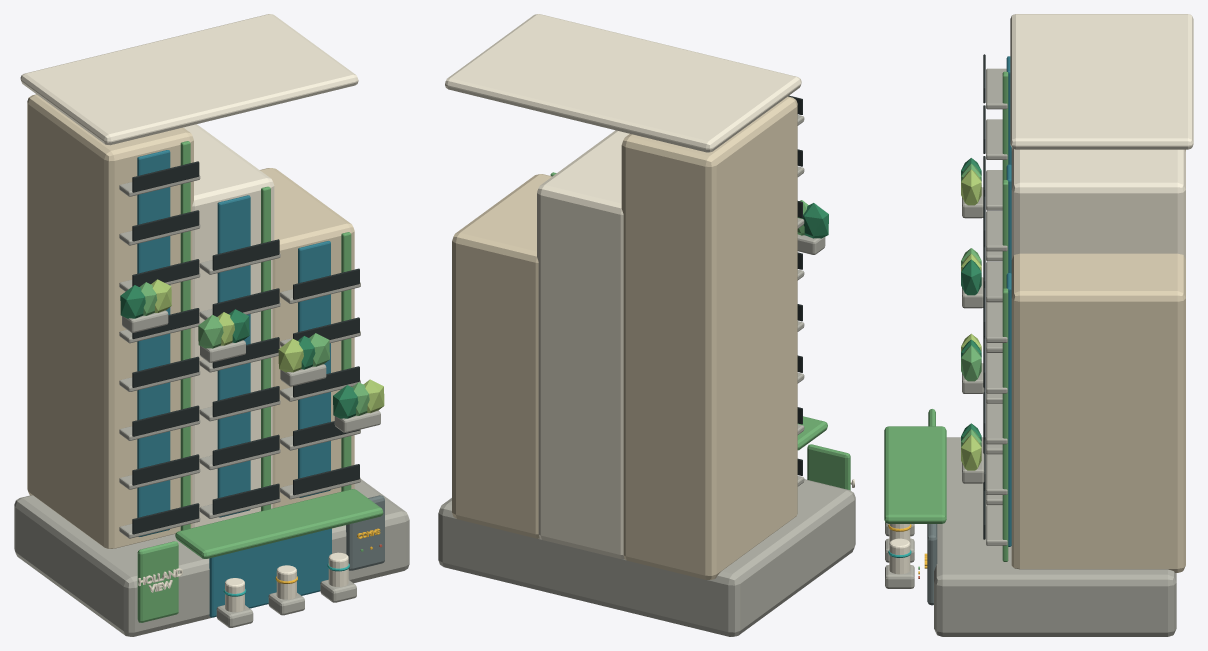
The model's file is condo-holland-v2.glb.
The picture shows the model from 3 angles, left to right: view 1: azimuth 30°, elevation 25°; view 2: azimuth 150°, elevation 25°; view 3: azimuth 270°, elevation 25°; orthographic projection. The views are drawn at different scales.
Visible parts, largest first — view 1: SOFIA HOLLAND CONDO CALL KIT · Warm plaster, SOFIA HOLLAND CONDO CALL KIT · Chalk, SOFIA HOLLAND CONDO CALL KIT · Concrete, SOFIA HOLLAND CONDO CALL KIT · Graphic glass, SOFIA HOLLAND CONDO CALL KIT · Ink, SOFIA HOLLAND CONDO CALL KIT · Plant mid, SOFIA HOLLAND CONDO CALL KIT · Plant deep, SOFIA HOLLAND CONDO CALL KIT · Plant lime, SOFIA HOLLAND CONDO CALL KIT · Dark metal; view 2: SOFIA HOLLAND CONDO CALL KIT · Warm plaster, SOFIA HOLLAND CONDO CALL KIT · Chalk, SOFIA HOLLAND CONDO CALL KIT · Concrete, SOFIA HOLLAND CONDO CALL KIT · Plant mid, SOFIA HOLLAND CONDO CALL KIT · Ink, SOFIA HOLLAND CONDO CALL KIT · Plant deep; view 3: SOFIA HOLLAND CONDO CALL KIT · Warm plaster, SOFIA HOLLAND CONDO CALL KIT · Chalk, SOFIA HOLLAND CONDO CALL KIT · Concrete, SOFIA HOLLAND CONDO CALL KIT · Plant mid, SOFIA HOLLAND CONDO CALL KIT · Graphic glass, SOFIA HOLLAND CONDO CALL KIT · Plant lime, SOFIA HOLLAND CONDO CALL KIT · Ink, SOFIA HOLLAND CONDO CALL KIT · Plant deep, SOFIA HOLLAND CONDO CALL KIT · Dark metal.
Boxes of the visible parts, x1,y1,x2,y2 form: SOFIA HOLLAND CONDO CALL KIT · Warm plaster: (27, 94, 354, 548); SOFIA HOLLAND CONDO CALL KIT · Chalk: (20, 14, 358, 612); SOFIA HOLLAND CONDO CALL KIT · Concrete: (14, 175, 409, 636); SOFIA HOLLAND CONDO CALL KIT · Graphic glass: (137, 150, 331, 617); SOFIA HOLLAND CONDO CALL KIT · Ink: (132, 161, 359, 534); SOFIA HOLLAND CONDO CALL KIT · Plant mid: (137, 141, 383, 622); SOFIA HOLLAND CONDO CALL KIT · Plant deep: (120, 285, 358, 418); SOFIA HOLLAND CONDO CALL KIT · Plant lime: (151, 279, 384, 413); SOFIA HOLLAND CONDO CALL KIT · Dark metal: (346, 495, 384, 570); SOFIA HOLLAND CONDO CALL KIT · Warm plaster: (452, 96, 797, 579); SOFIA HOLLAND CONDO CALL KIT · Chalk: (445, 14, 854, 559); SOFIA HOLLAND CONDO CALL KIT · Concrete: (438, 115, 855, 636); SOFIA HOLLAND CONDO CALL KIT · Plant mid: (550, 172, 850, 490); SOFIA HOLLAND CONDO CALL KIT · Ink: (788, 95, 802, 475); SOFIA HOLLAND CONDO CALL KIT · Plant deep: (802, 203, 828, 238); SOFIA HOLLAND CONDO CALL KIT · Warm plaster: (1011, 148, 1185, 572); SOFIA HOLLAND CONDO CALL KIT · Chalk: (889, 14, 1193, 574); SOFIA HOLLAND CONDO CALL KIT · Concrete: (885, 68, 1176, 636); SOFIA HOLLAND CONDO CALL KIT · Plant mid: (884, 71, 1008, 569); SOFIA HOLLAND CONDO CALL KIT · Graphic glass: (1006, 56, 1011, 546); SOFIA HOLLAND CONDO CALL KIT · Plant lime: (961, 169, 981, 470); SOFIA HOLLAND CONDO CALL KIT · Ink: (983, 54, 985, 539); SOFIA HOLLAND CONDO CALL KIT · Plant deep: (961, 158, 981, 441); SOFIA HOLLAND CONDO CALL KIT · Dark metal: (927, 524, 937, 605).
Size of the model in its own units: 5.5 by 8.73 by 4.98.
